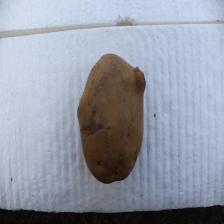Diseased-fungal potato: (76, 50, 147, 185)
